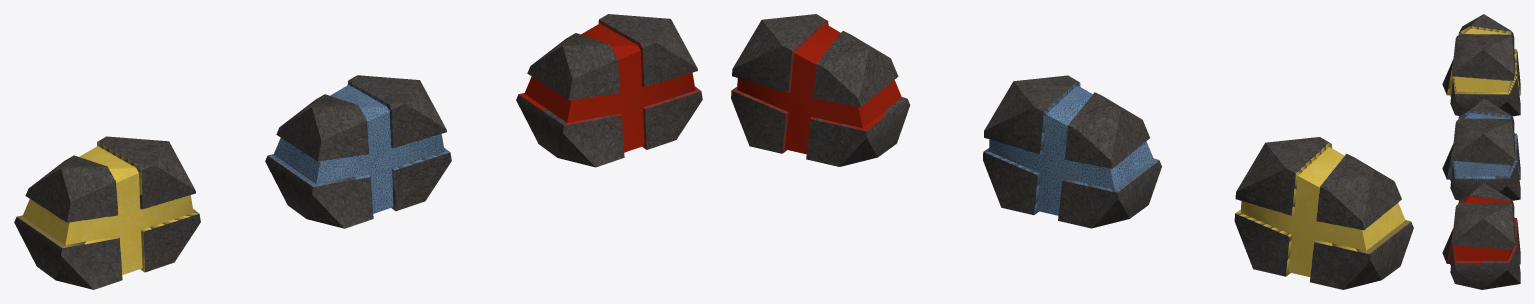
The model's file is 돌멩이 텍스처 3번째.fbx.
3 renders of one model, left to right at view 1: azimuth 30°, elevation 25°; view 2: azimuth 150°, elevation 25°; view 3: azimuth 270°, elevation 25°, orthographic. The views are drawn at different scales.
Parts seen in each view (by area): view 1: Line012, Line016, Line017; view 2: Line016, Line017, Line012; view 3: Line012, Line016, Line017.
Part boxes in pixels (box(x1,y1,x2,y2)): Line012: box(516, 14, 702, 167); Line016: box(265, 75, 451, 228); Line017: box(14, 136, 200, 289); Line016: box(983, 75, 1161, 228); Line017: box(1234, 137, 1413, 289); Line012: box(731, 14, 910, 166); Line012: box(1442, 183, 1520, 289); Line016: box(1442, 98, 1520, 200); Line017: box(1442, 14, 1520, 116).
Bounding box in the file's own units: 166 × 25.3 × 25.3.
Materials: 1 (1 with a texture image).
